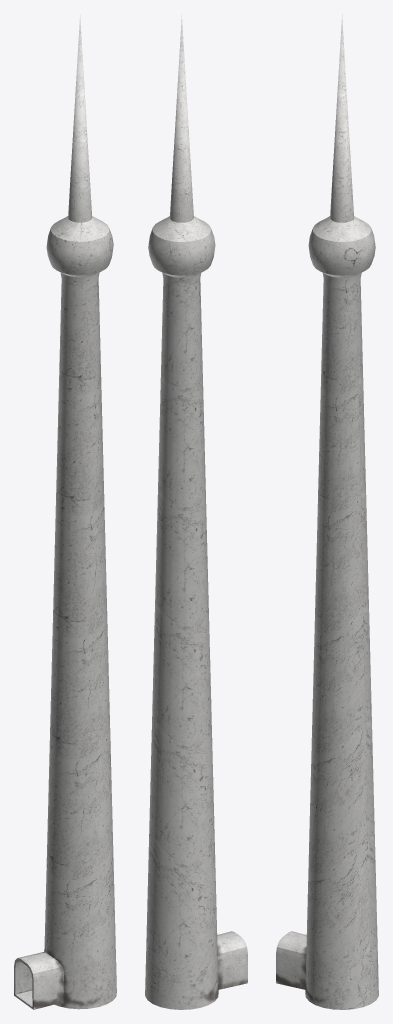
The model's file is Toren.fbx.
3 renders of one model, left to right at view 1: azimuth 30°, elevation 25°; view 2: azimuth 210°, elevation 25°; view 3: azimuth 330°, elevation 25°, orthographic.
Parts seen in each view (by area): view 1: Cylinder.007; view 2: Cylinder.007; view 3: Cylinder.007.
Part boxes in pixels (box(x1,y1,x2,y2)): Cylinder.007: box(14, 15, 116, 1009); Cylinder.007: box(145, 15, 247, 1009); Cylinder.007: box(276, 14, 378, 1009).
Size of the model in its own units: 4633 by 49309 by 3373.
